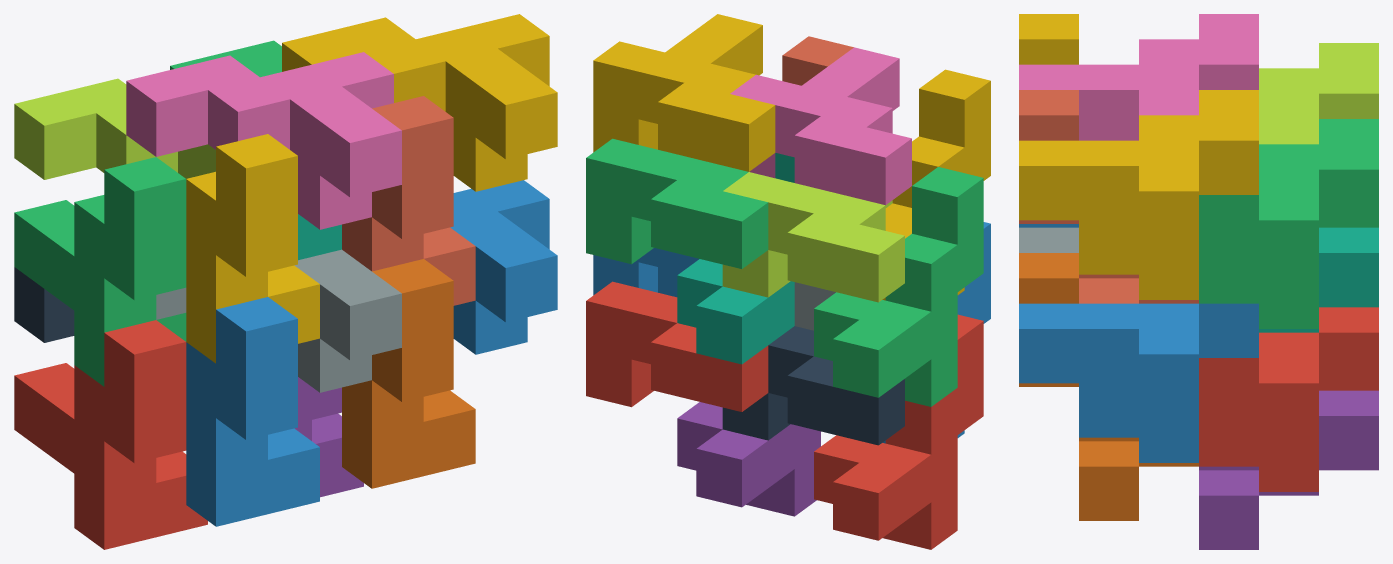
File: tiling.obj
3 renders of one model, left to right at view 1: azimuth 30°, elevation 25°; view 2: azimuth 150°, elevation 25°; view 3: azimuth 270°, elevation 25°, orthographic. The views are drawn at different scales.
Visible parts, largest first — view 1: copy_2_domain_4, copy_1_domain_1, copy_1_domain_2, copy_2_domain_8, copy_1_domain_3, copy_1_domain_4, copy_1_domain_6, copy_1_domain_8, copy_2_domain_6, copy_2_domain_2, copy_2_domain_3, copy_1_domain_5 (+3 smaller); view 2: copy_1_domain_3, copy_2_domain_8, copy_1_domain_1, copy_2_domain_7, copy_2_domain_4, copy_2_domain_3, copy_2_domain_5, copy_1_domain_5, copy_2_domain_1, copy_1_domain_7, copy_1_domain_4, copy_2_domain_6 (+3 smaller); view 3: copy_2_domain_8, copy_2_domain_6, copy_2_domain_7, copy_2_domain_5, copy_2_domain_4, copy_1_domain_5, copy_2_domain_3, copy_1_domain_6, copy_1_domain_8, copy_1_domain_7, copy_1_domain_4, copy_2_domain_2.
Boxes of the visible parts, x1,y1,x2,y2 form: copy_2_domain_4: (126, 52, 401, 229); copy_1_domain_1: (14, 320, 207, 549); copy_1_domain_2: (186, 297, 319, 526); copy_2_domain_8: (282, 14, 557, 191); copy_1_domain_3: (14, 157, 186, 386); copy_1_domain_4: (186, 134, 319, 363); copy_1_domain_6: (342, 259, 475, 488); copy_1_domain_8: (342, 96, 475, 305); copy_2_domain_6: (450, 180, 557, 354); copy_2_domain_2: (156, 249, 401, 392); copy_2_domain_3: (14, 78, 215, 179); copy_1_domain_5: (294, 377, 363, 497); copy_1_domain_3: (814, 167, 983, 406); copy_2_domain_8: (593, 14, 775, 171); copy_1_domain_1: (814, 314, 983, 549); copy_2_domain_7: (586, 138, 768, 268); copy_2_domain_4: (730, 47, 911, 205); copy_2_domain_3: (722, 172, 904, 302); copy_2_domain_5: (586, 281, 768, 411); copy_1_domain_5: (677, 402, 820, 516); copy_2_domain_1: (722, 326, 904, 445); copy_1_domain_7: (677, 153, 794, 364); copy_1_domain_4: (882, 69, 990, 300); copy_2_domain_6: (593, 248, 698, 297); copy_2_domain_8: (1019, 90, 1258, 299); copy_2_domain_6: (1019, 303, 1258, 462); copy_2_domain_7: (1199, 119, 1378, 328); copy_2_domain_5: (1199, 307, 1378, 491); copy_2_domain_4: (1019, 14, 1258, 140); copy_1_domain_5: (1199, 390, 1378, 549); copy_2_domain_3: (1259, 43, 1378, 144); copy_1_domain_6: (1019, 253, 1198, 520); copy_1_domain_8: (1019, 90, 1198, 303); copy_1_domain_7: (1259, 227, 1378, 332); copy_1_domain_4: (1019, 14, 1078, 64); copy_2_domain_2: (1019, 227, 1078, 252).
Bounding box in the file's own units: 8 × 8 × 6.
